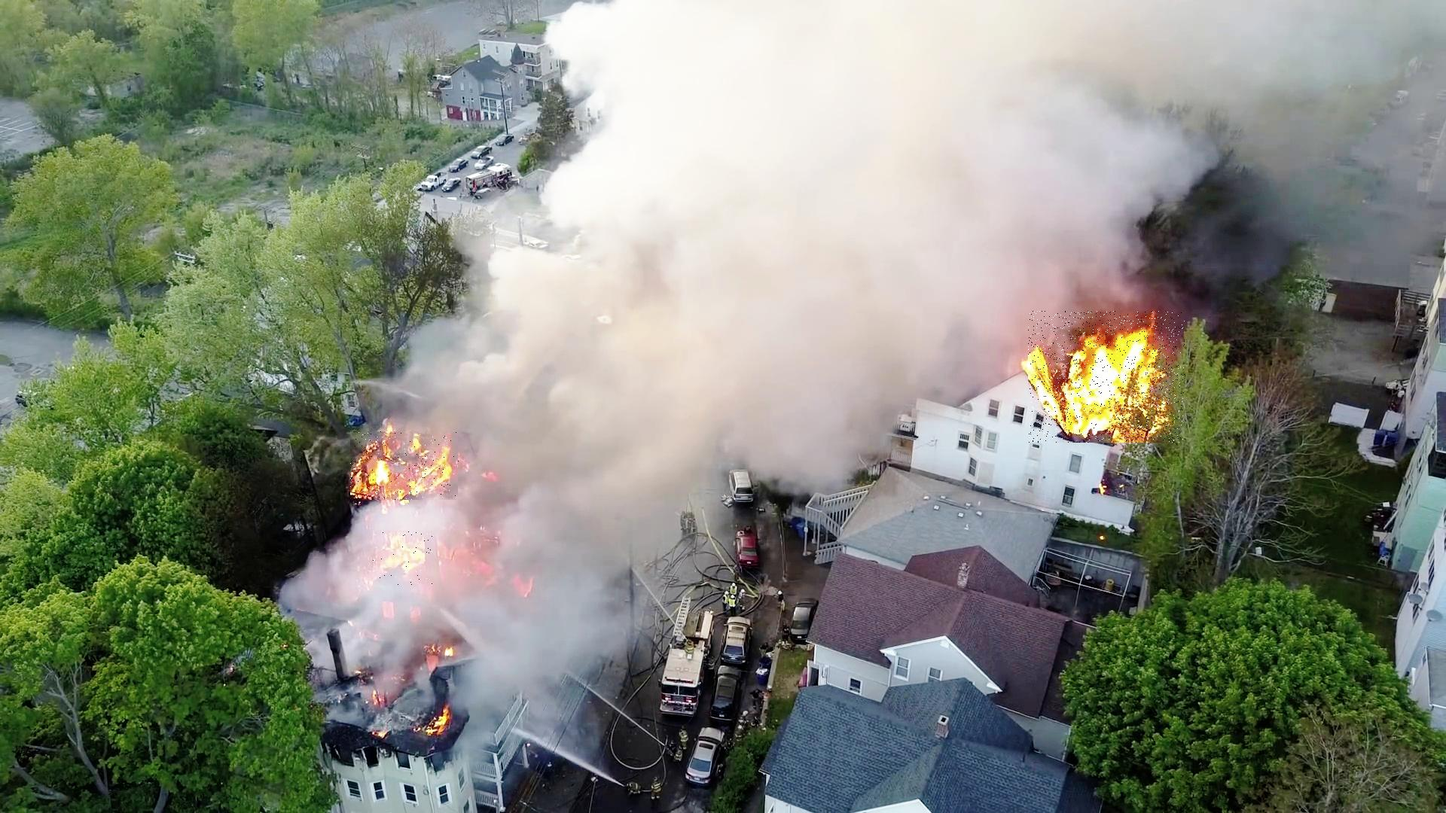fire: (1028, 311, 1185, 443), (351, 431, 460, 500), (373, 531, 434, 586)
